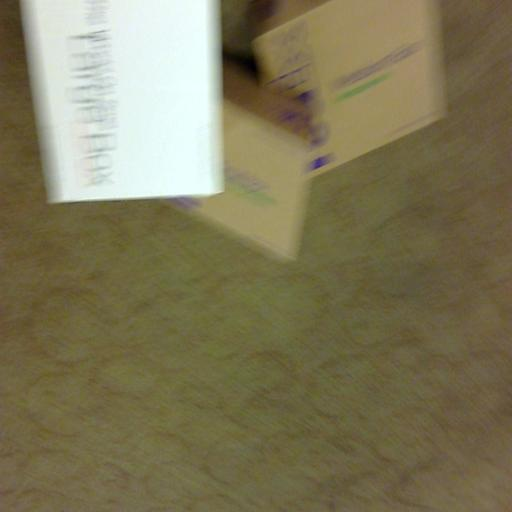Amazon: (149, 66, 322, 264), (255, 0, 446, 157)
